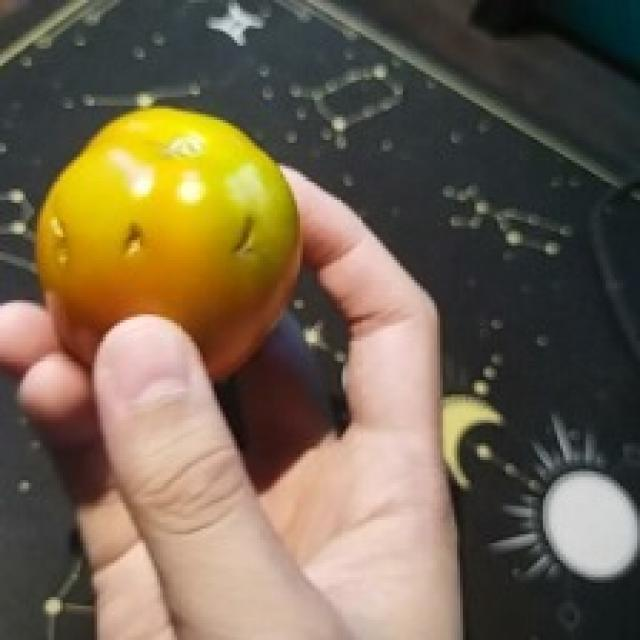Rotten Tomato: (23, 99, 310, 404)
